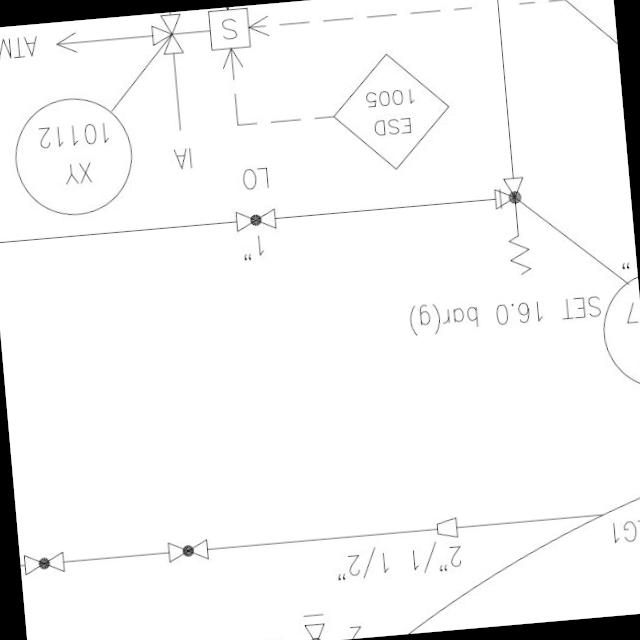3W: (142, 11, 186, 62)
BV2: (230, 205, 280, 238), (163, 536, 214, 568), (21, 545, 68, 579)
RPV: (486, 169, 536, 288)
SP: (430, 515, 460, 542)
SV: (160, 4, 260, 64)
